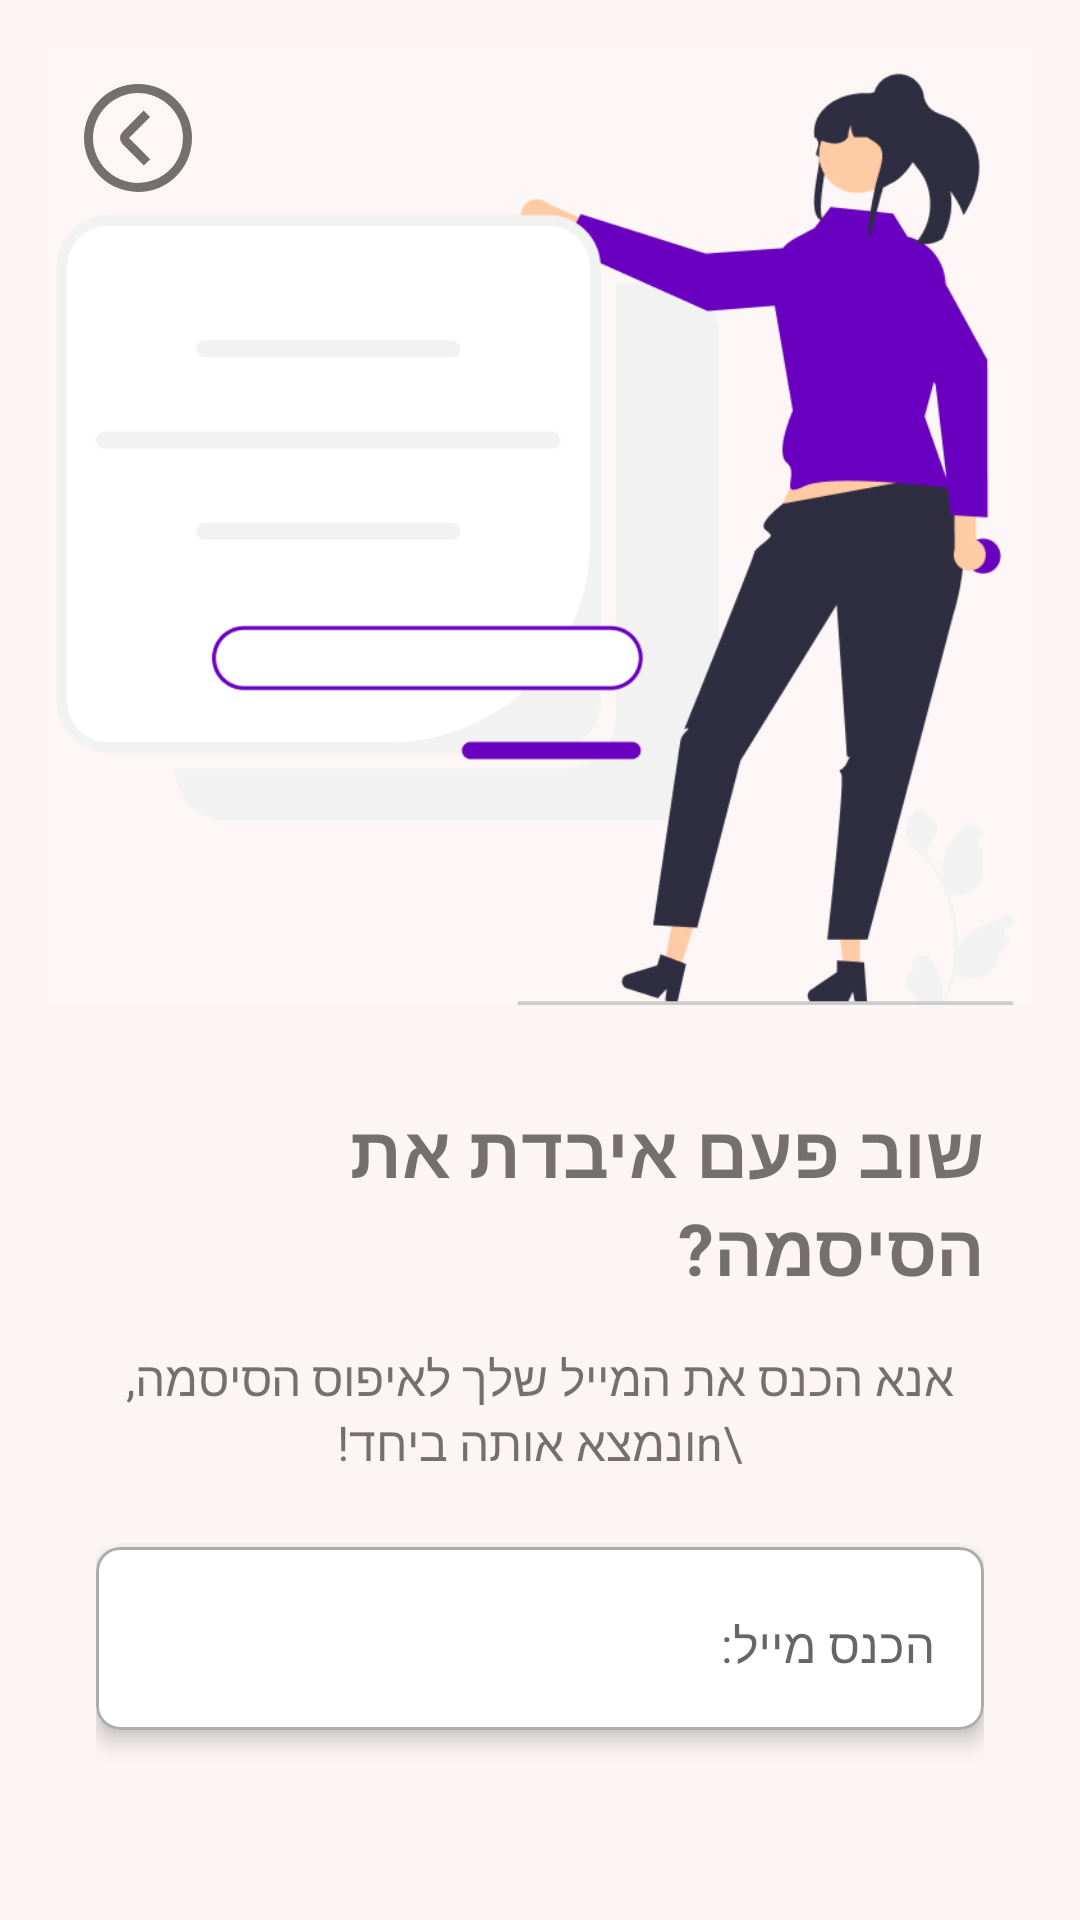

Screen size 1080*1920. Icon name, then its box in pixels as [x1,y1,x2,y2]:
left button: [84,84,192,192]
